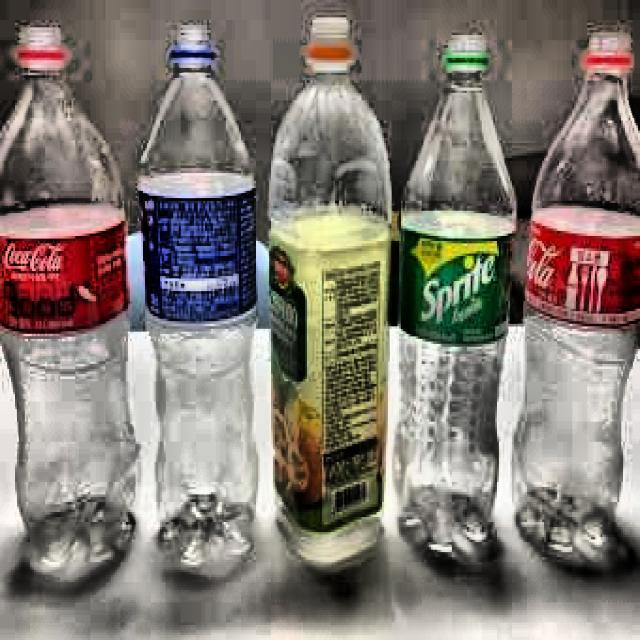Bottles: (235, 16, 408, 581), (118, 10, 276, 575), (1, 12, 145, 586), (384, 15, 522, 567), (514, 9, 640, 589)
